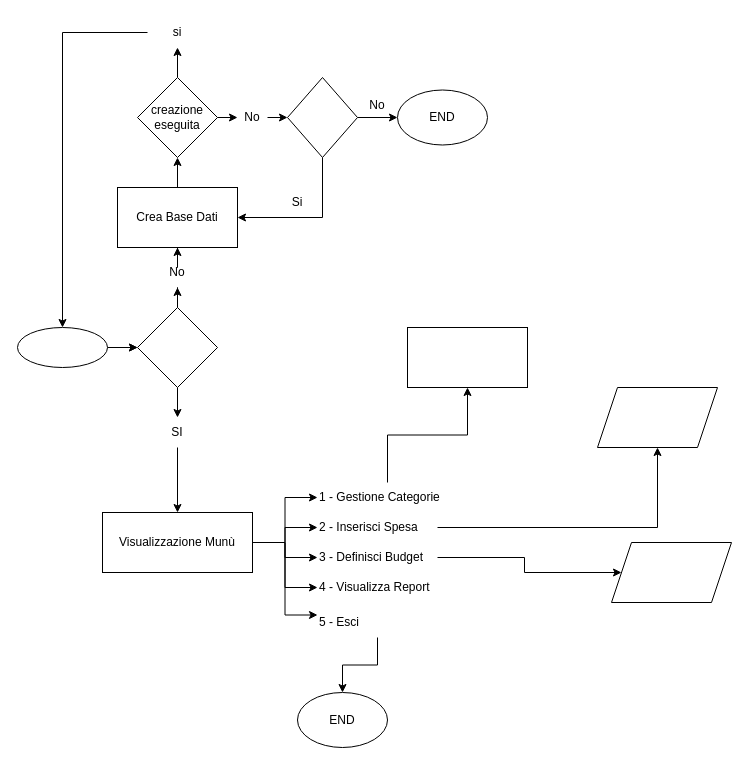
Some shapes in this 749 by 765 pixel diagram are drawn without their labels. The box of each missing label's shape, as (x1, y1, x2, y2) in pixels:
La base Dati esiste: (136, 306, 218, 388)
Riprova: (286, 76, 358, 158)
START: (16, 326, 108, 368)
